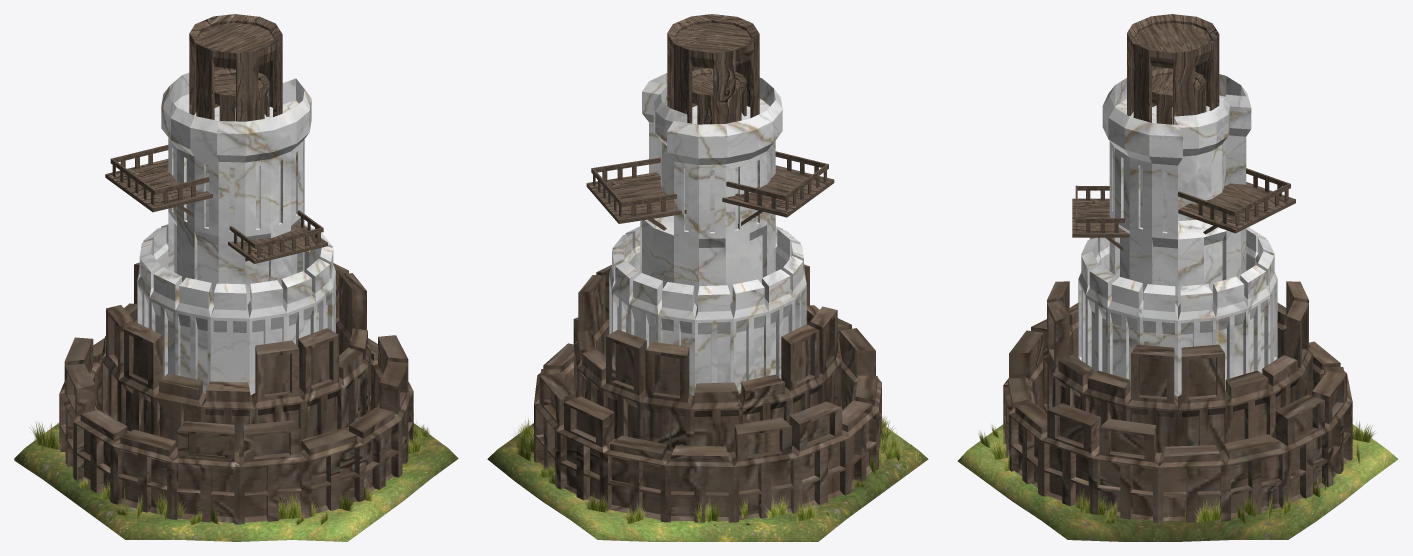
File: hyperstructure_half.glb
3 renders of one model, left to right at view 1: azimuth 30°, elevation 25°; view 2: azimuth 150°, elevation 25°; view 3: azimuth 270°, elevation 25°, orthographic.
Parts seen in each view (by area): view 1: Cube; view 2: Cube; view 3: Cube.
Boxes of the visible parts, x1,y1,x2,y2 form: Cube: [14, 14, 458, 541]; Cube: [487, 14, 928, 541]; Cube: [957, 14, 1398, 541].
Size of the model in its own units: 1.73 by 2.13 by 2.
4 materials, 4 textured.
